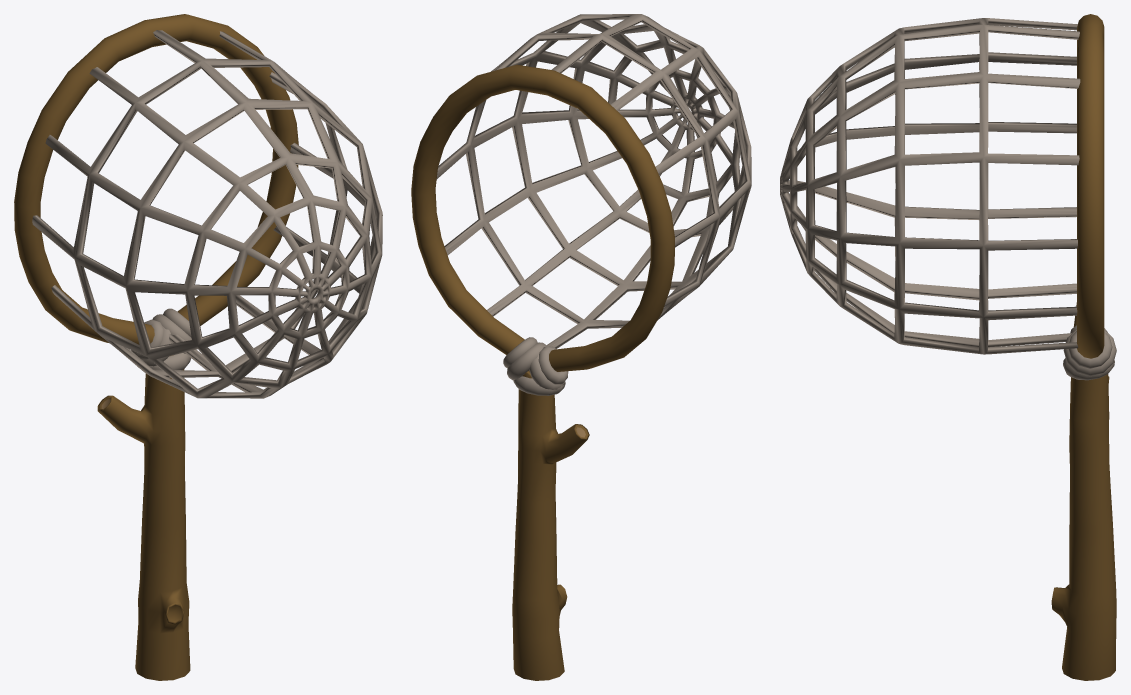
File: ButterflyNet.fbx
The picture shows the model from 3 angles, left to right: view 1: azimuth 30°, elevation 25°; view 2: azimuth 150°, elevation 25°; view 3: azimuth 270°, elevation 25°; orthographic projection. The views are drawn at different scales.
Visible parts, largest first — view 1: ButterflyNet_Net, ButterflyNet_Ring, ButterflyNet_base; view 2: ButterflyNet_Net, ButterflyNet_Ring, ButterflyNet_base, Knot1, Knot4, Knot5; view 3: ButterflyNet_Net, ButterflyNet_base, ButterflyNet_Ring, Knot3, Knot1.
Boxes of the visible parts, box(x1,y1,x2,y2) form: ButterflyNet_Net: box(32, 30, 382, 398); ButterflyNet_Ring: box(14, 14, 298, 344); ButterflyNet_base: box(97, 355, 190, 680); ButterflyNet_Net: box(436, 14, 751, 348); ButterflyNet_Ring: box(411, 64, 674, 371); ButterflyNet_base: box(512, 371, 589, 680); Knot1: box(507, 342, 546, 380); Knot4: box(538, 346, 568, 384); Knot5: box(513, 376, 565, 395); ButterflyNet_Net: box(780, 18, 1080, 354); ButterflyNet_base: box(1051, 374, 1116, 680); ButterflyNet_Ring: box(1073, 14, 1104, 358); Knot3: box(1068, 331, 1112, 368); Knot1: box(1063, 329, 1116, 376).
Bounding box in the file's own units: 7.98 × 17.66 × 8.45.
